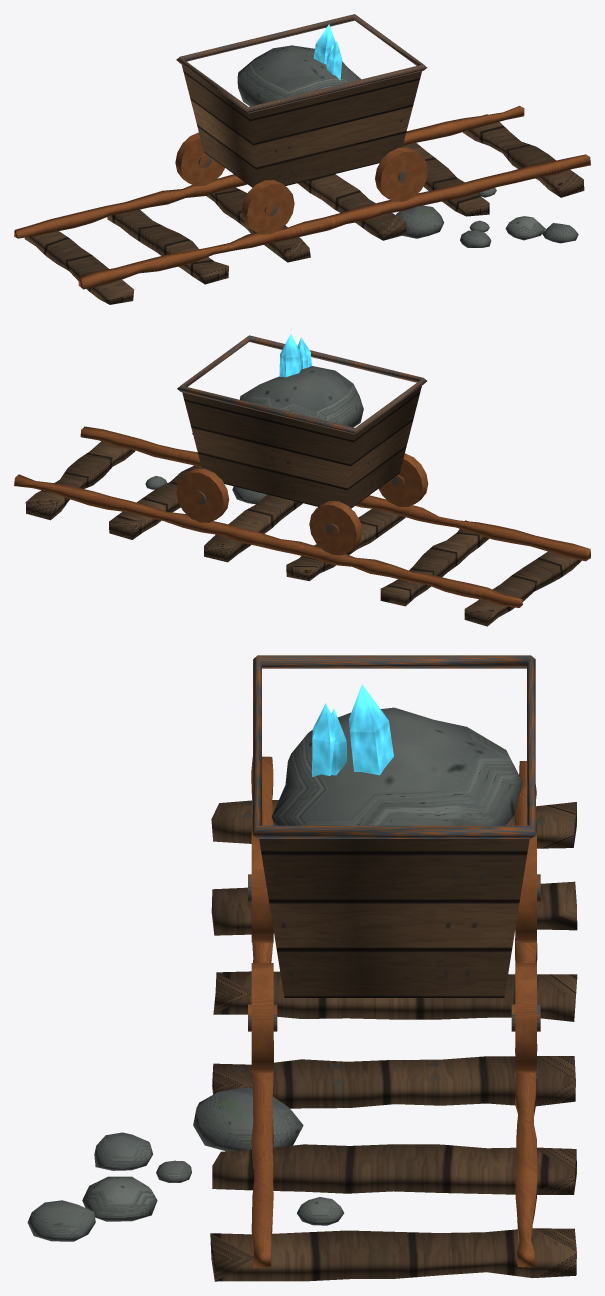
Rendered from abandoned_mine_cart.glb.
3 renders of one model, top to bottom at view 1: azimuth 30°, elevation 25°; view 2: azimuth 150°, elevation 25°; view 3: azimuth 270°, elevation 25°, orthographic. The views are drawn at different scales.
Visible parts, largest first — view 1: abandoned_mine_cart__iron_rusty, abandoned_mine_cart__wood, abandoned_mine_cart__wood_dark, abandoned_mine_cart__stone_dark, abandoned_mine_cart__iron, abandoned_mine_cart__crystal_cyan; view 2: abandoned_mine_cart__iron_rusty, abandoned_mine_cart__wood, abandoned_mine_cart__wood_dark, abandoned_mine_cart__stone_dark, abandoned_mine_cart__iron, abandoned_mine_cart__crystal_cyan; view 3: abandoned_mine_cart__wood_dark, abandoned_mine_cart__wood, abandoned_mine_cart__stone_dark, abandoned_mine_cart__iron_rusty, abandoned_mine_cart__iron, abandoned_mine_cart__crystal_cyan.
Boxes of the visible parts, bbox=[...] form: abandoned_mine_cart__iron_rusty: bbox=[14, 106, 590, 289]; abandoned_mine_cart__wood: bbox=[182, 65, 421, 187]; abandoned_mine_cart__wood_dark: bbox=[24, 114, 584, 304]; abandoned_mine_cart__stone_dark: bbox=[237, 45, 578, 247]; abandoned_mine_cart__iron: bbox=[176, 14, 427, 216]; abandoned_mine_cart__crystal_cyan: bbox=[313, 24, 341, 80]; abandoned_mine_cart__iron_rusty: bbox=[14, 426, 590, 607]; abandoned_mine_cart__wood: bbox=[182, 386, 421, 508]; abandoned_mine_cart__wood_dark: bbox=[25, 441, 581, 626]; abandoned_mine_cart__stone_dark: bbox=[145, 366, 363, 504]; abandoned_mine_cart__iron: bbox=[177, 335, 426, 537]; abandoned_mine_cart__crystal_cyan: bbox=[279, 333, 311, 377]; abandoned_mine_cart__wood_dark: bbox=[210, 800, 577, 1281]; abandoned_mine_cart__wood: bbox=[259, 839, 529, 997]; abandoned_mine_cart__stone_dark: bbox=[27, 707, 522, 1241]; abandoned_mine_cart__iron_rusty: bbox=[251, 756, 537, 1268]; abandoned_mine_cart__iron: bbox=[248, 655, 540, 1031]; abandoned_mine_cart__crystal_cyan: bbox=[312, 684, 393, 777].
Size of the model in its own units: 3.19 by 1.19 by 1.5.
Materials: 6 (6 with a texture image).
